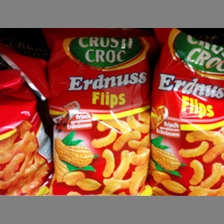chips: (42, 30, 151, 195), (149, 28, 223, 195), (1, 71, 50, 195)
